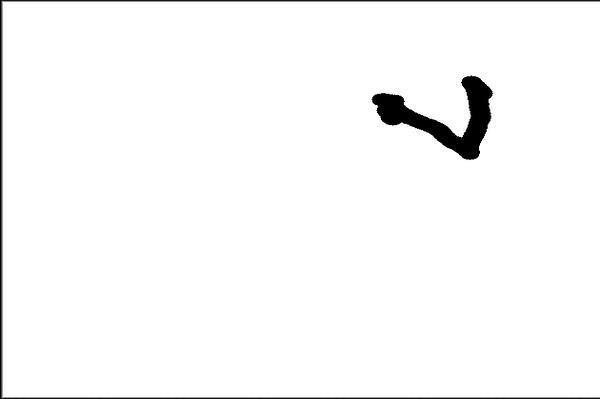V: (375, 62, 507, 174)
